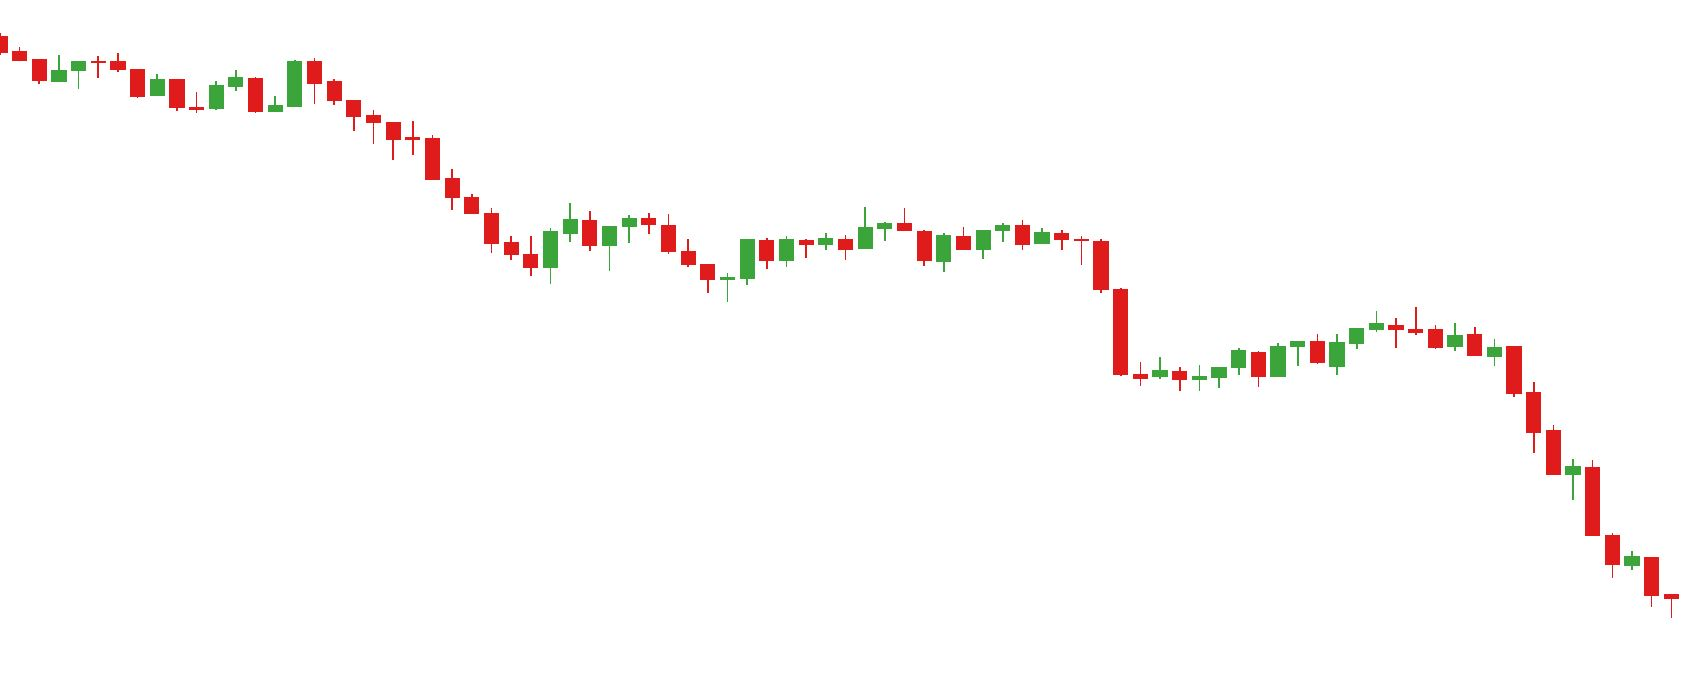buy: (523, 232, 735, 309)
